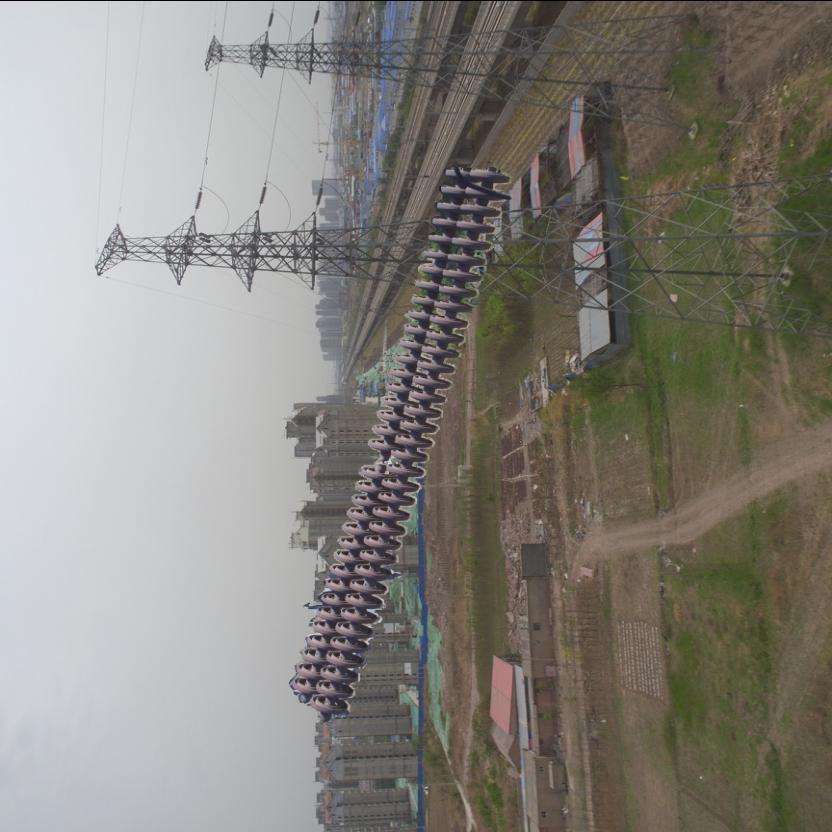defect: (358, 436, 398, 481)
